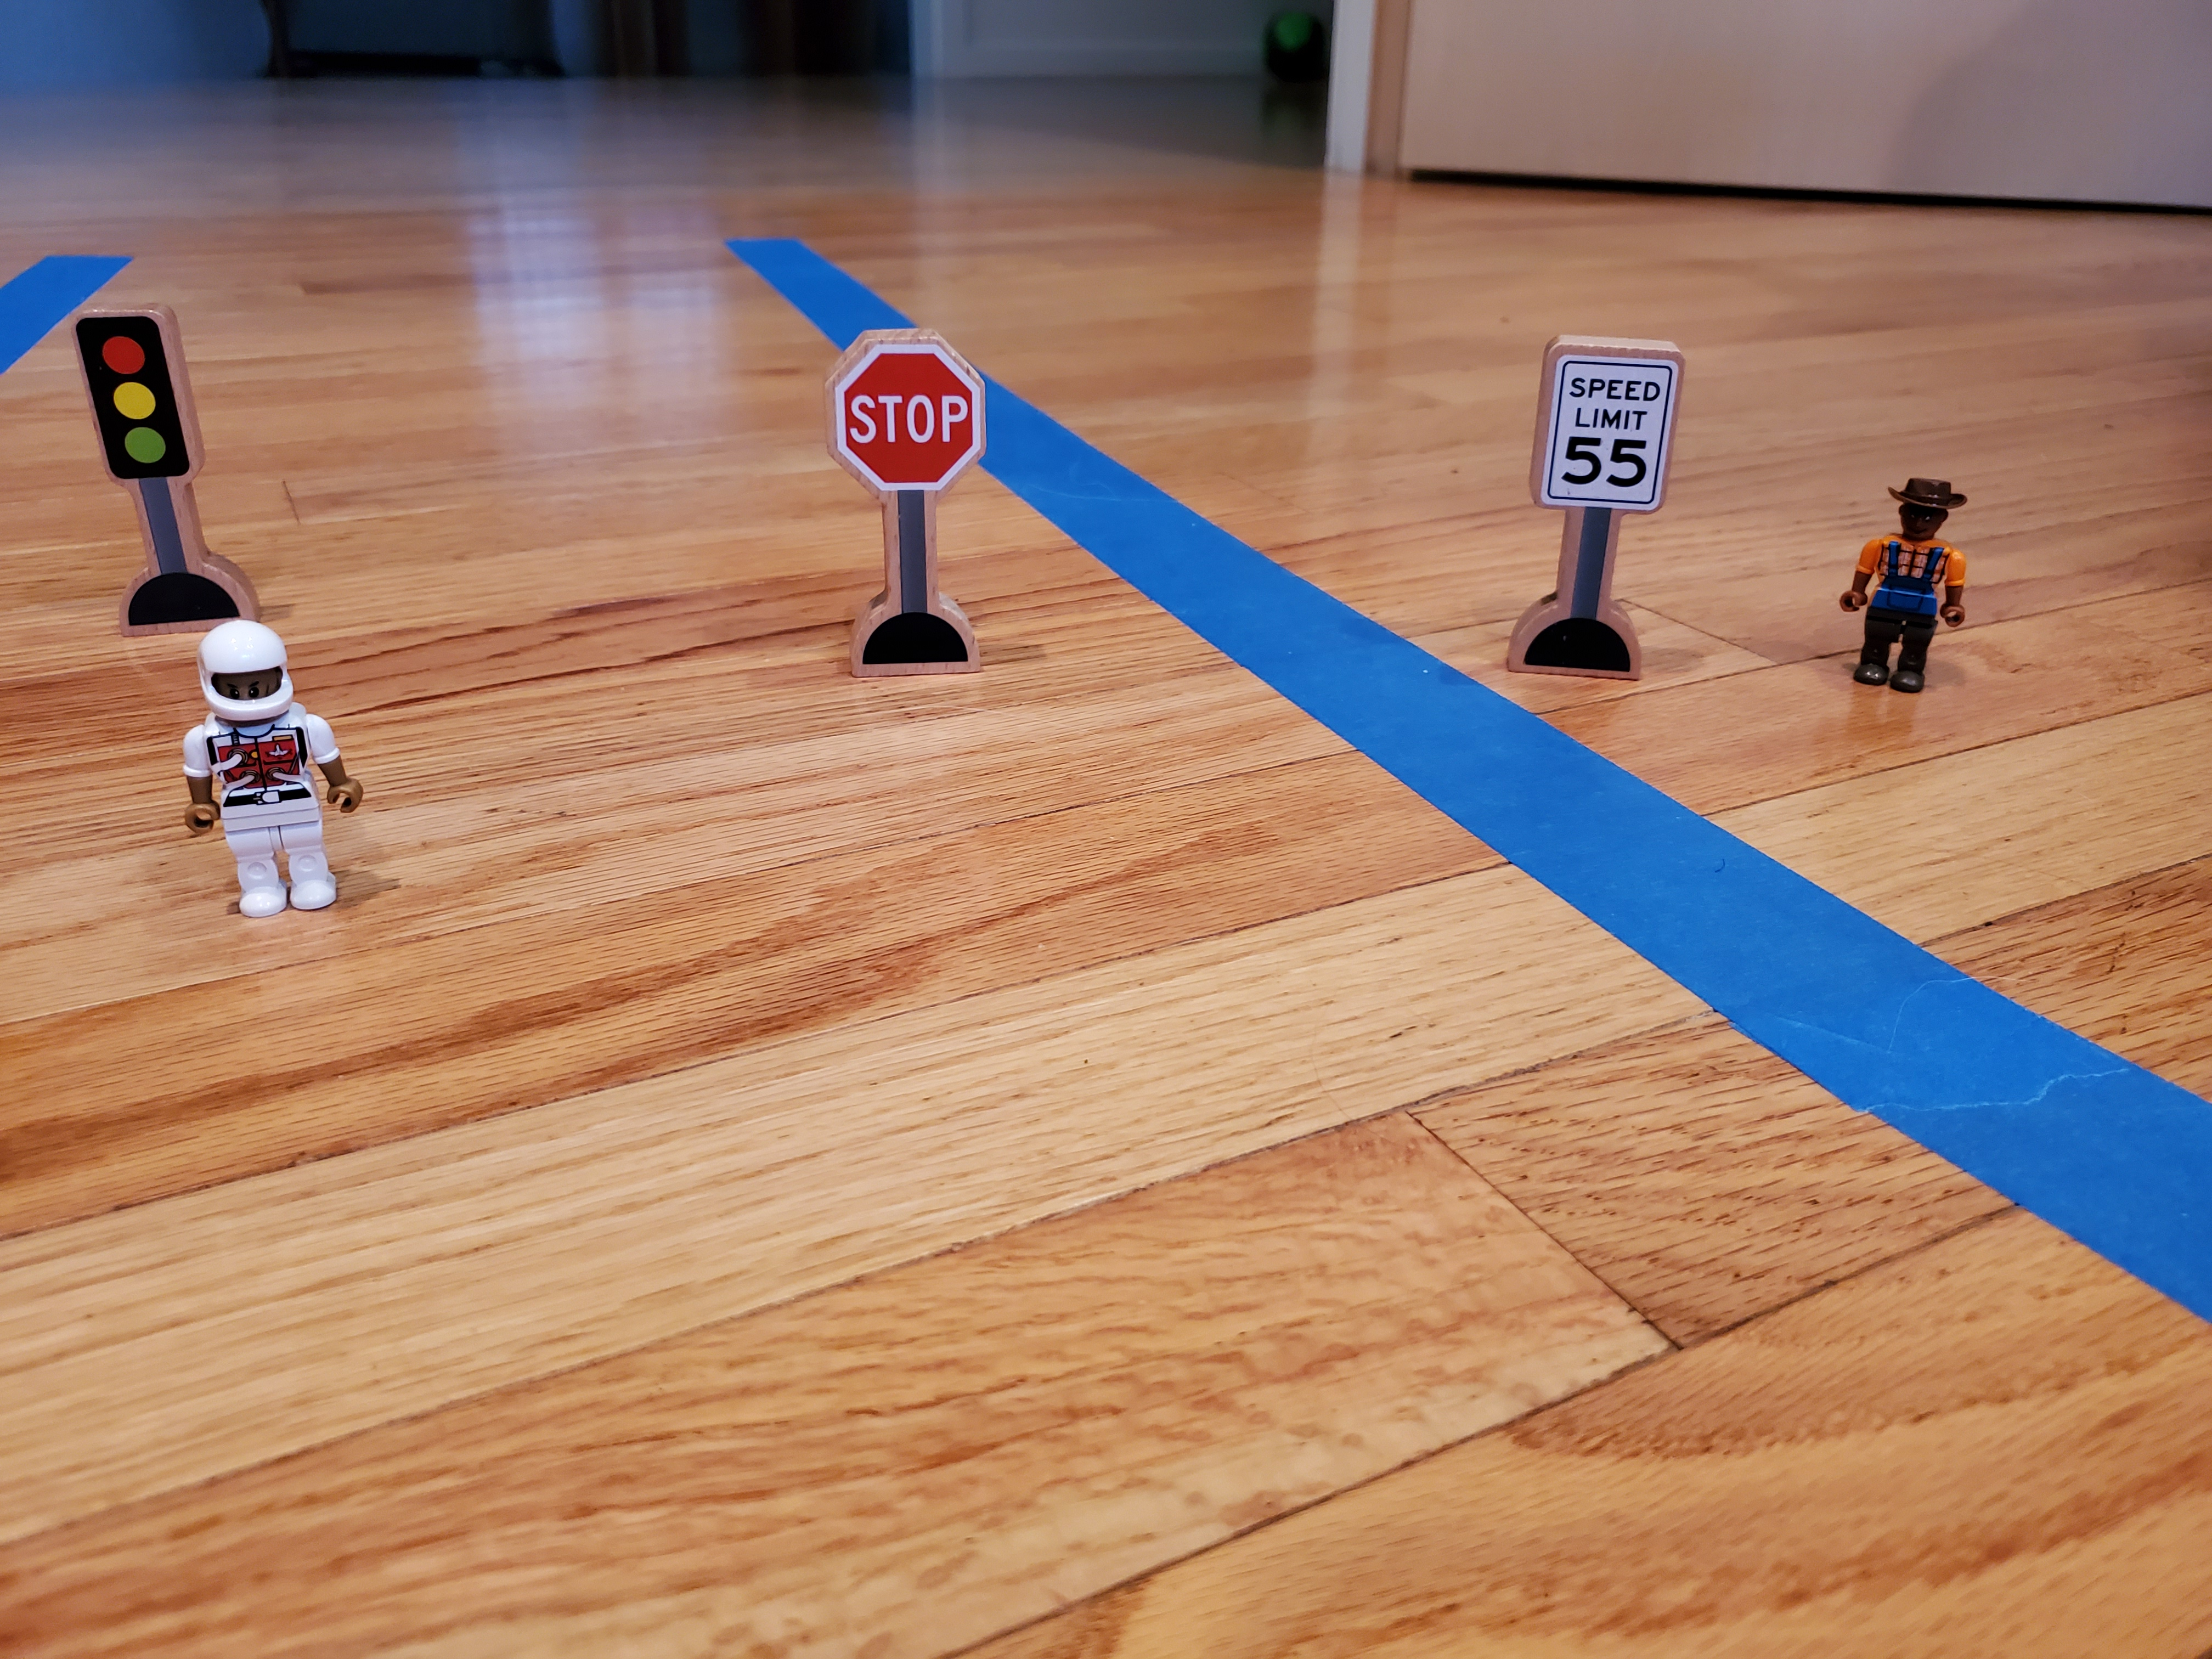Red Traffic Light: (69, 302, 216, 493)
Speed Limit 55: (1530, 319, 1684, 527)
Stop Sign: (811, 323, 1000, 521)
person: (171, 614, 367, 932), (1844, 459, 1977, 710)
